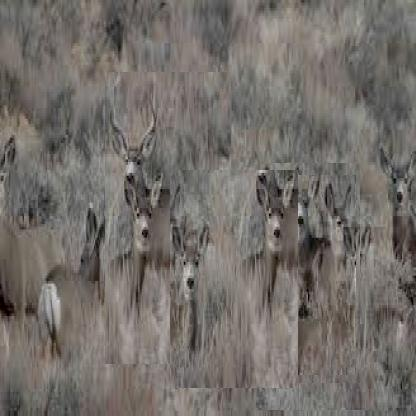Deer: (105, 72, 231, 364), (170, 170, 298, 388), (256, 216, 374, 410), (260, 163, 360, 383), (0, 130, 66, 389), (33, 202, 115, 408), (283, 175, 356, 375), (378, 140, 416, 342)
